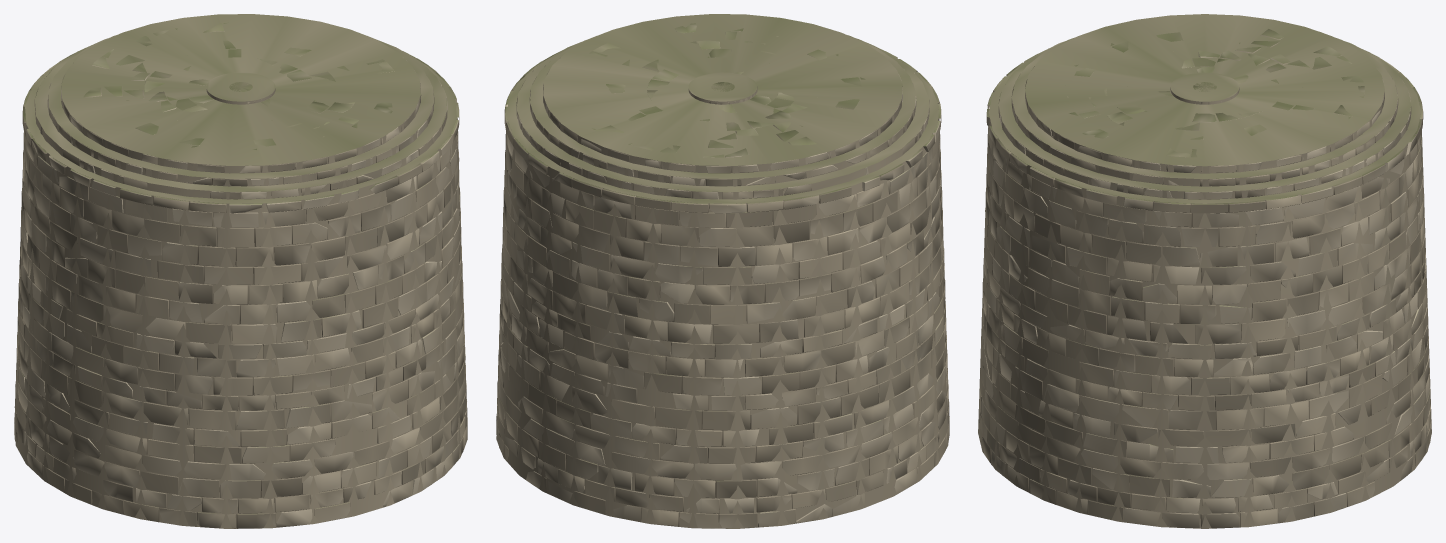
Rendered from tholos_base.glb.
3 views of the same model, side by side, from view 1: azimuth 30°, elevation 25°; view 2: azimuth 150°, elevation 25°; view 3: azimuth 270°, elevation 25° (orthographic).
Visible parts, largest first — view 1: tholos_base, tholos_base_far; view 2: tholos_base, tholos_base_far; view 3: tholos_base, tholos_base_far.
Part boxes in pixels (x1=…): tholos_base: x1=14, y1=14, x2=467, y2=528; tholos_base_far: x1=14, y1=14, x2=467, y2=528; tholos_base: x1=496, y1=14, x2=949, y2=528; tholos_base_far: x1=496, y1=14, x2=949, y2=528; tholos_base: x1=979, y1=29, x2=1431, y2=528; tholos_base_far: x1=978, y1=14, x2=1431, y2=528.
Bounding box in the file's own units: 55.18 × 46.4 × 55.18.
